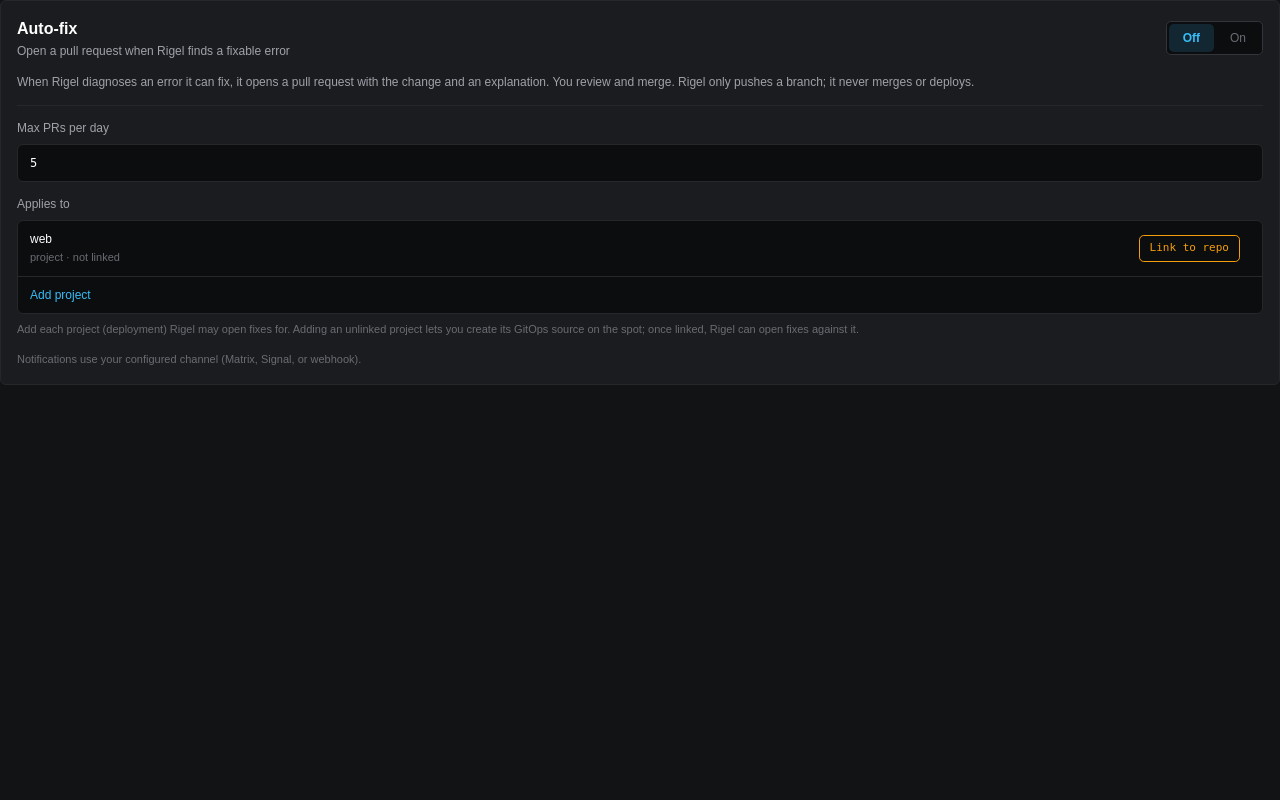
AutoFixTab — scope (project-only) › opens the Link to repo modal from an unlinked project
The image size is (1280, 800).
What coordinates should you click on to do the following:
click the button "Link to repo"
I would click on:
 (1189, 248)
Its box is [1138,235,1240,262].
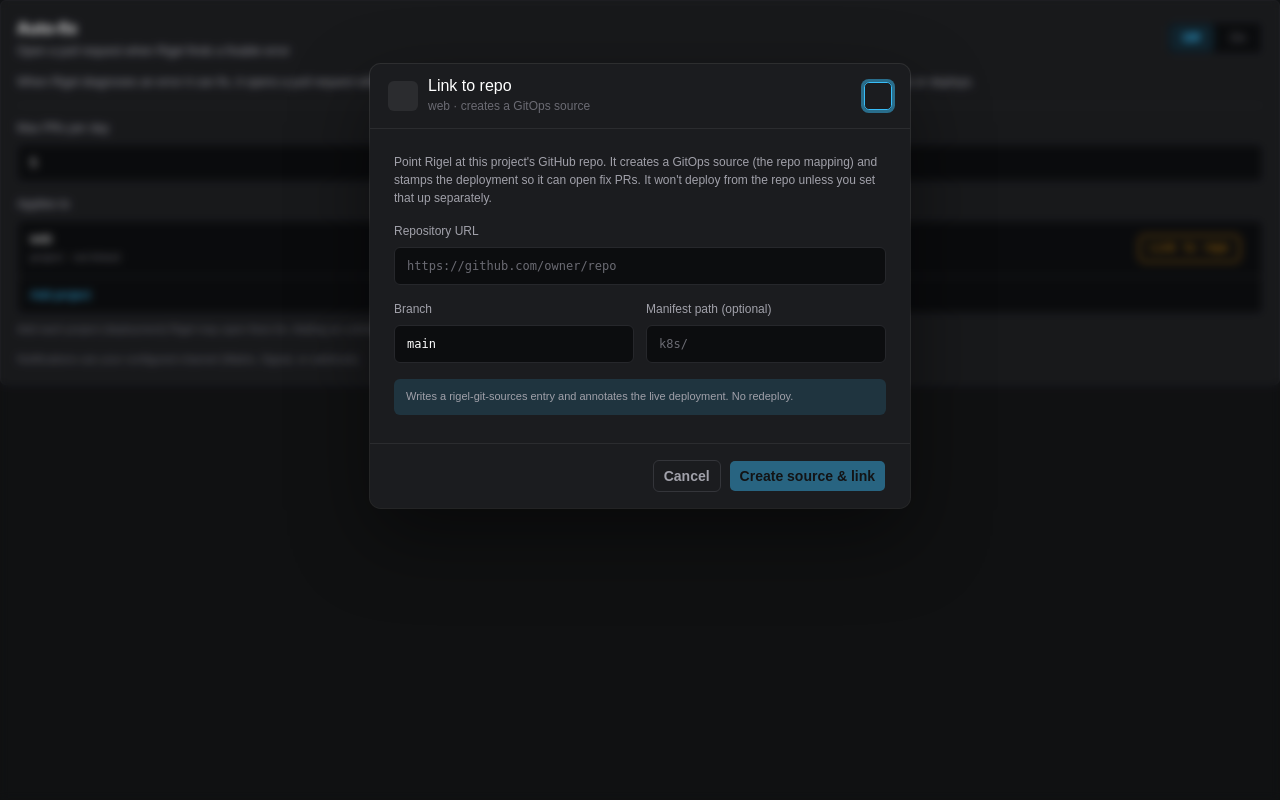
Check: the text "web · creates a GitOps source" is shown, box [428,98,590,114]
